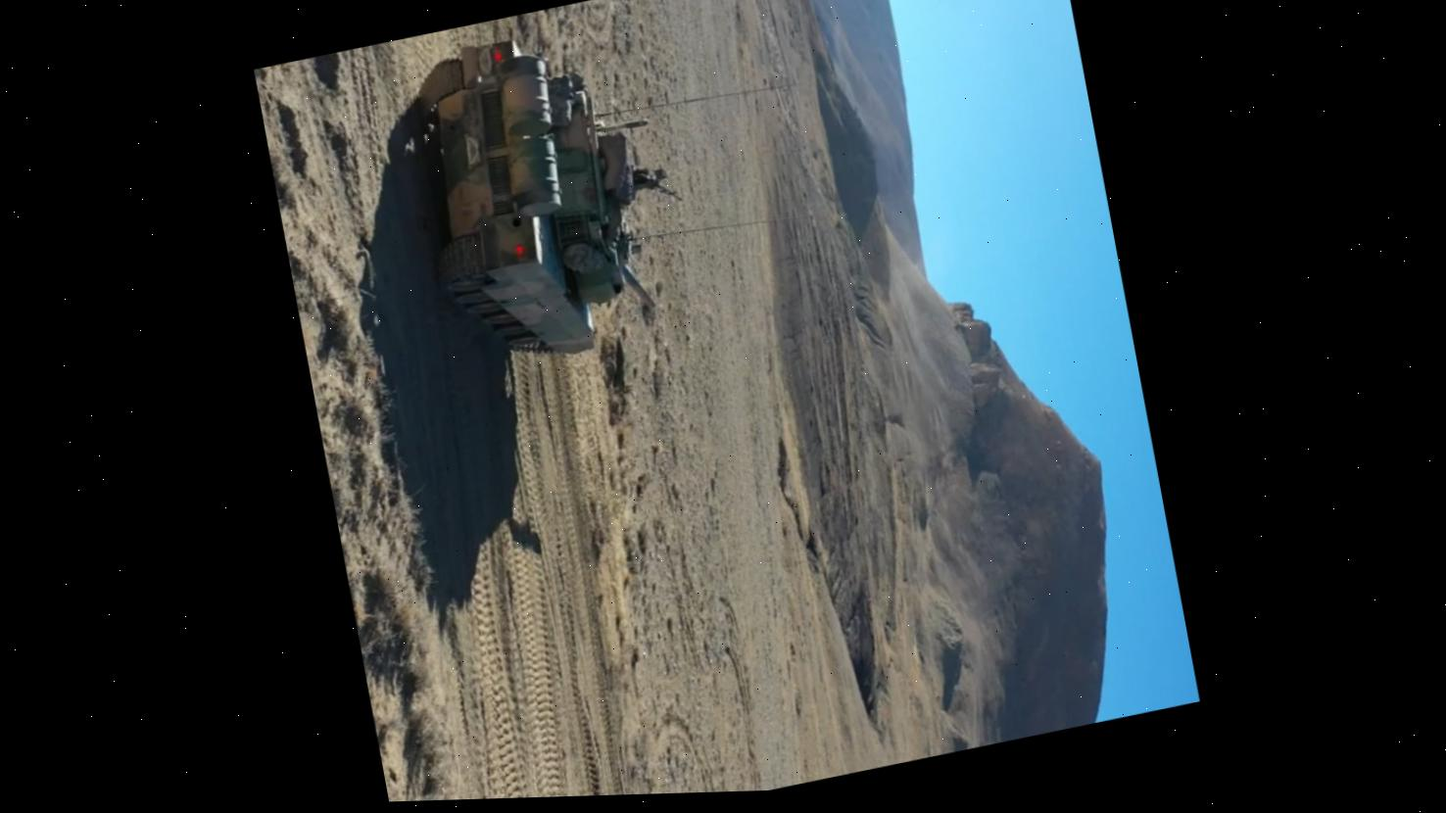tank: (393, 8, 704, 383)
